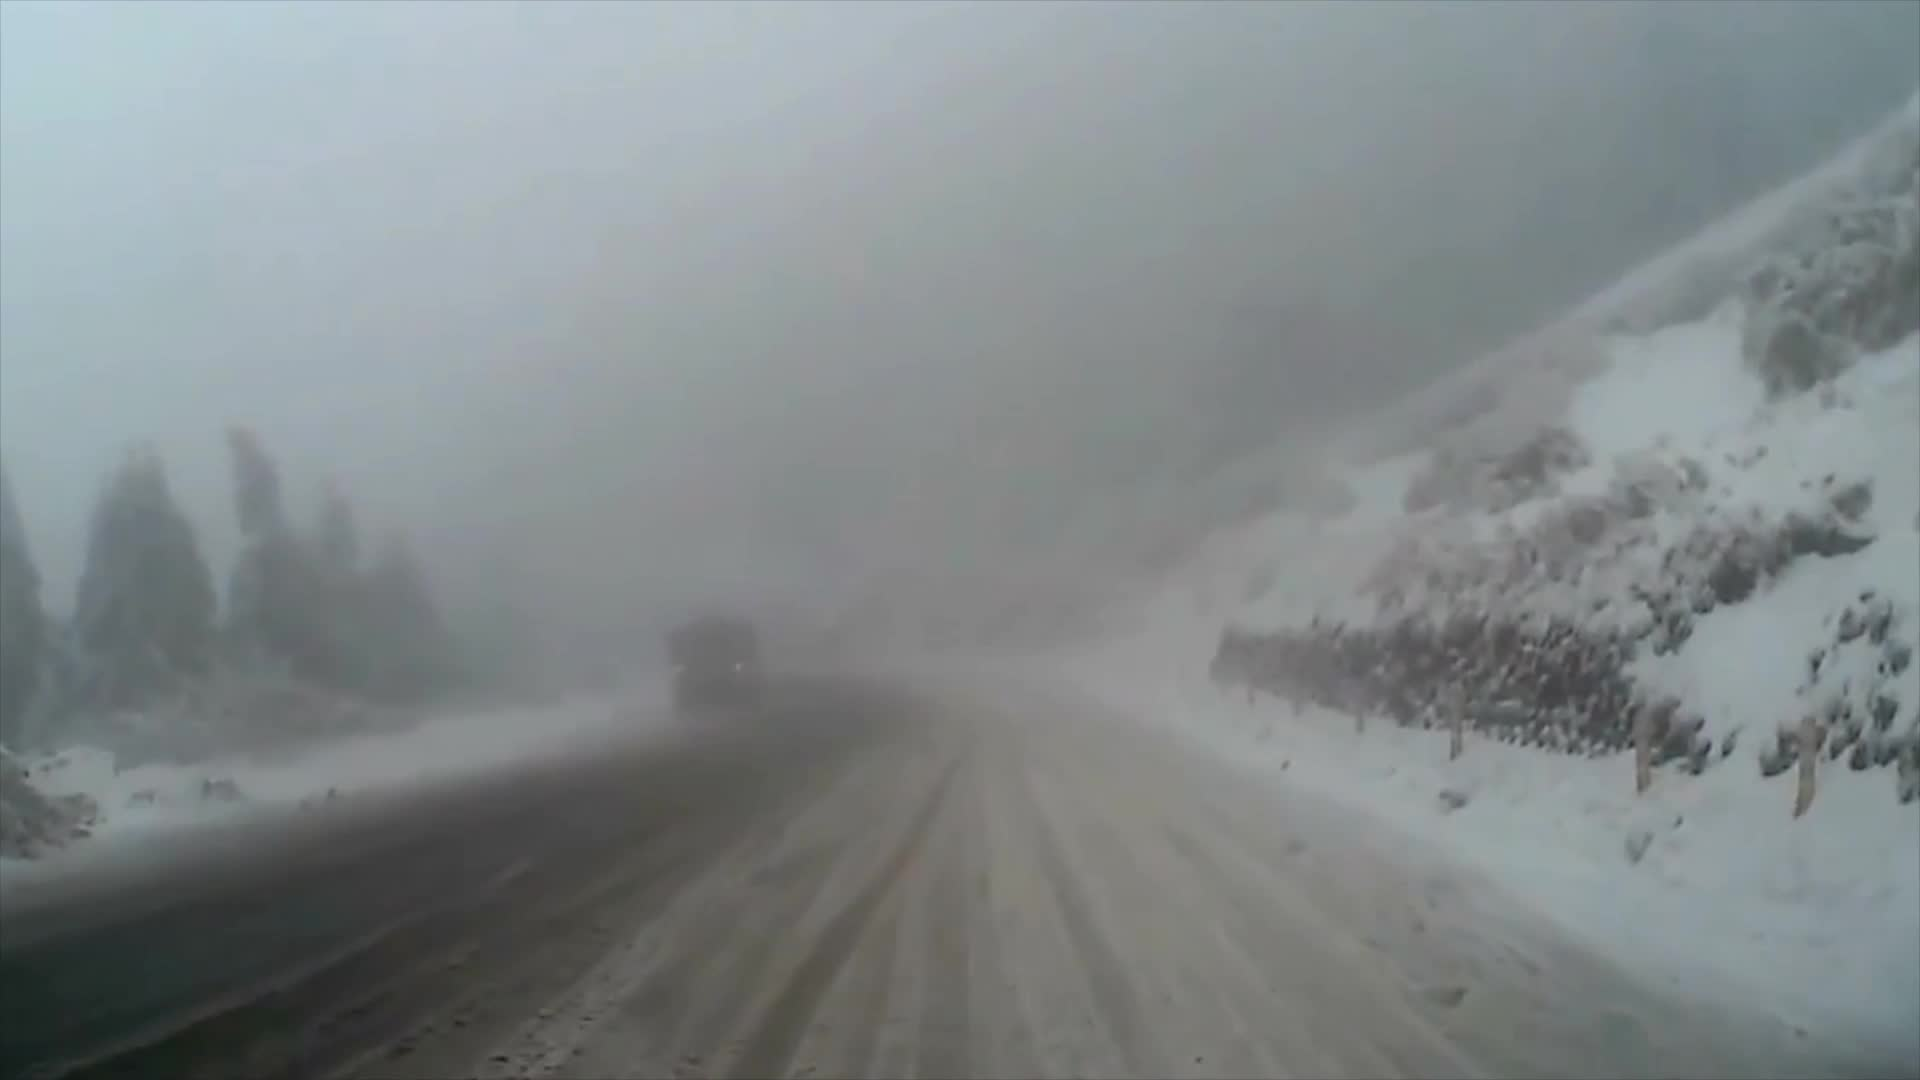vehicle: (659, 616, 764, 709)
